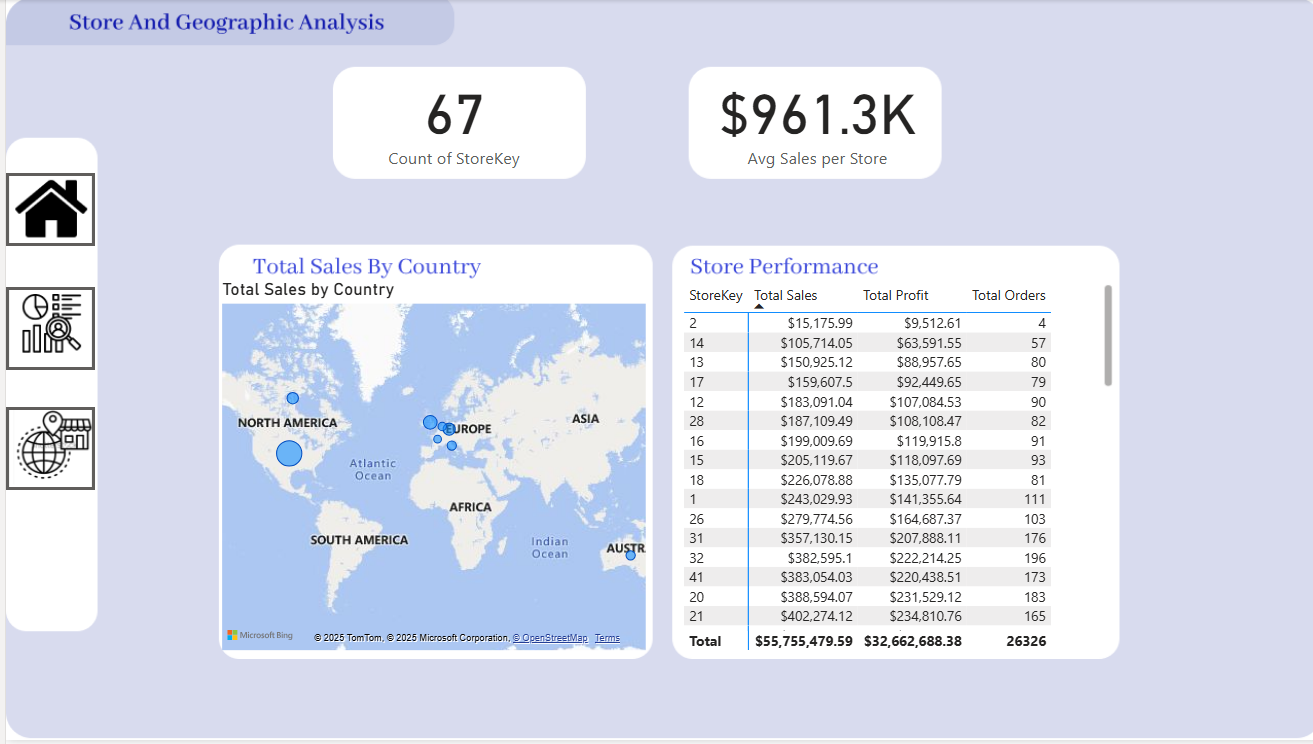

Layout of this report page (visuals, bound fields, positions):
{"tool":"powerbi","page":{"name":"Page 3","canvas":[1280,720],"ordinal":2},"visuals":[{"type":"map","fields":{"Category":["Stores.Country"],"Size":["Customers.Total Sales"]},"box":[205.2,271.4,422.1,365.7],"z":0},{"type":"pivotTable","fields":{"Rows":["Sales.StoreKey"],"Values":["Customers.Total Sales","Customers.Total Profit","Customers.Total Orders"]},"box":[654.6,271.4,427,365.7],"z":1000},{"type":"card","fields":{"Values":["CountNonNull(Stores.StoreKey)"]},"box":[331.7,54.5,208.1,120.6],"z":2000},{"type":"card","fields":{"Values":["Customers.Avg Sales per Store"]},"box":[627.4,48.6,323.9,132.3],"z":3000},{"type":"actionButton","box":[0,395.9,86.6,80.7],"z":4000},{"type":"actionButton","box":[0,279.1,86.6,80.7],"z":5000},{"type":"actionButton","box":[0,168.3,86.6,71],"z":6000}]}

Visuals, with their boxes in screenshot pixels (x1, y1, x2, y2), scaled from the page's 1280x720 canvas onto the 1313x744 screenshot:
map - Stores.Country x Customers.Total Sales: BBox(210, 280, 643, 658)
pivotTable - Sales.StoreKey x Customers.Total Sales: BBox(671, 280, 1109, 658)
card - CountNonNull(Stores.StoreKey): BBox(340, 56, 554, 181)
card - Customers.Avg Sales per Store: BBox(644, 50, 976, 187)
actionButton: BBox(0, 409, 89, 492)
actionButton: BBox(0, 288, 89, 372)
actionButton: BBox(0, 174, 89, 247)
